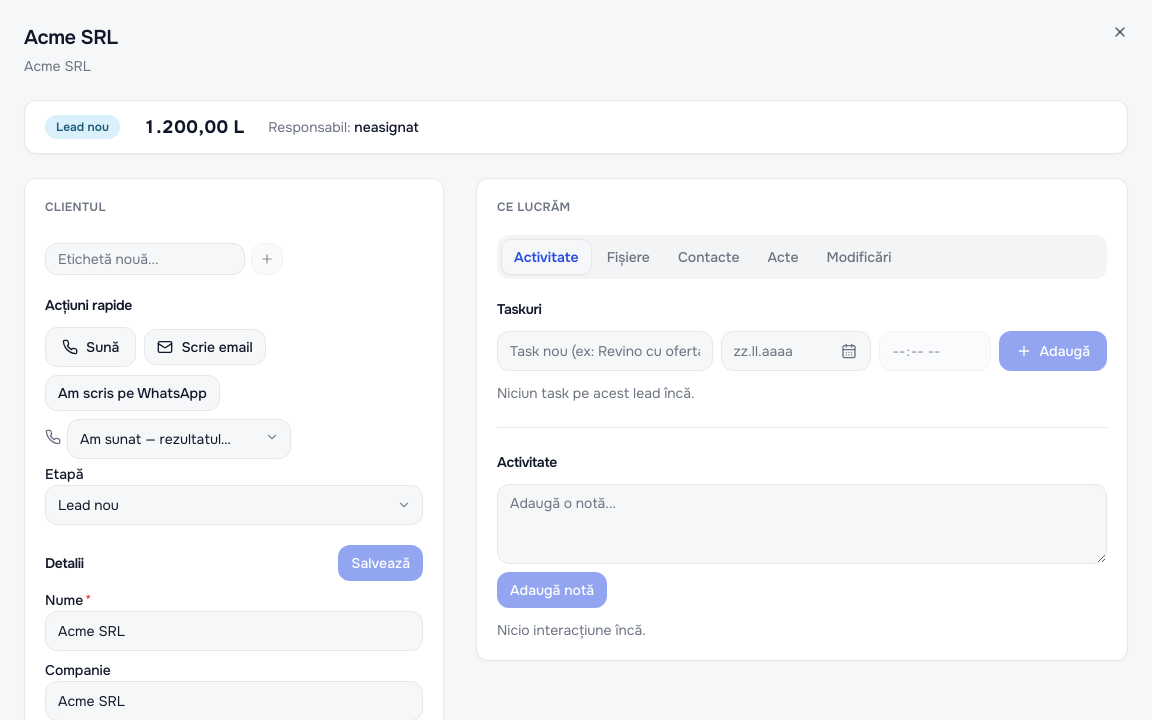
Scenario: Fișa leadului pe file › [blocant] antetul (etapă, acțiuni rapide) rămâne vizibil în orice filă
The width and height of the screenshot is (1152, 720).
Step 1. Click the tab "Fișiere" → (628, 257), box x1=594 y1=239 x2=663 y2=275
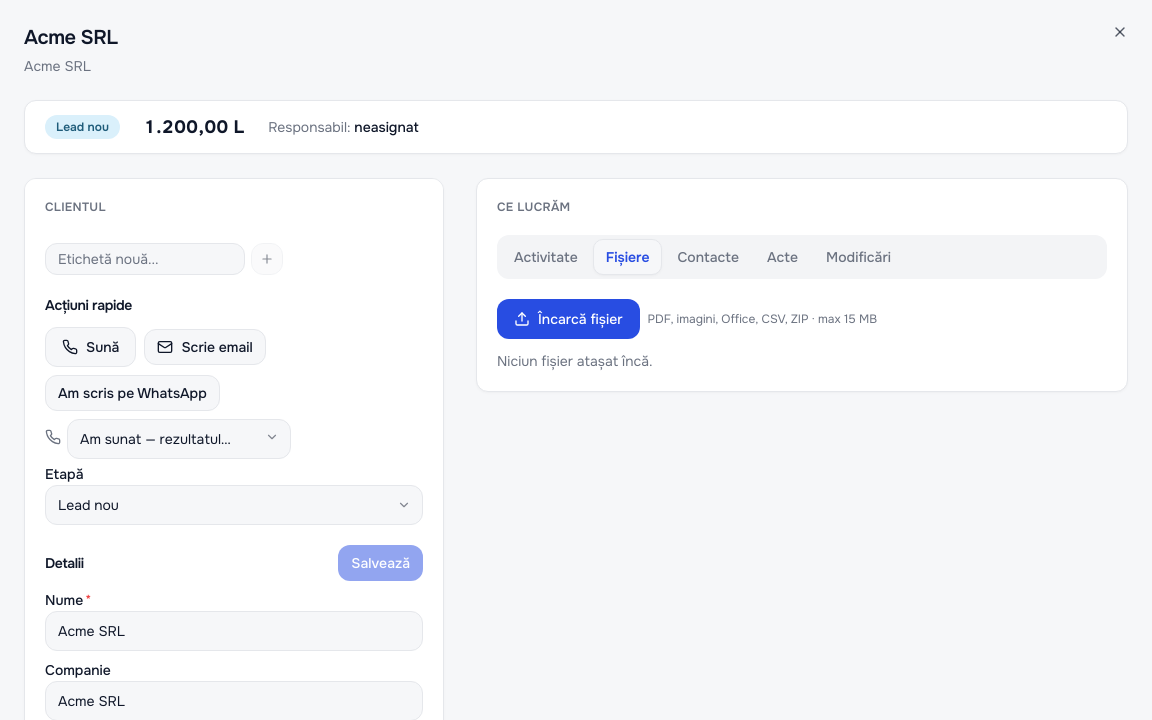
Expected: the dropdown labelled "Etapă" is shown, x1=45 y1=485 x2=423 y2=525
Now the text "Niciun fișier atașat încă." is shown, box x1=497 y1=352 x2=652 y2=370
